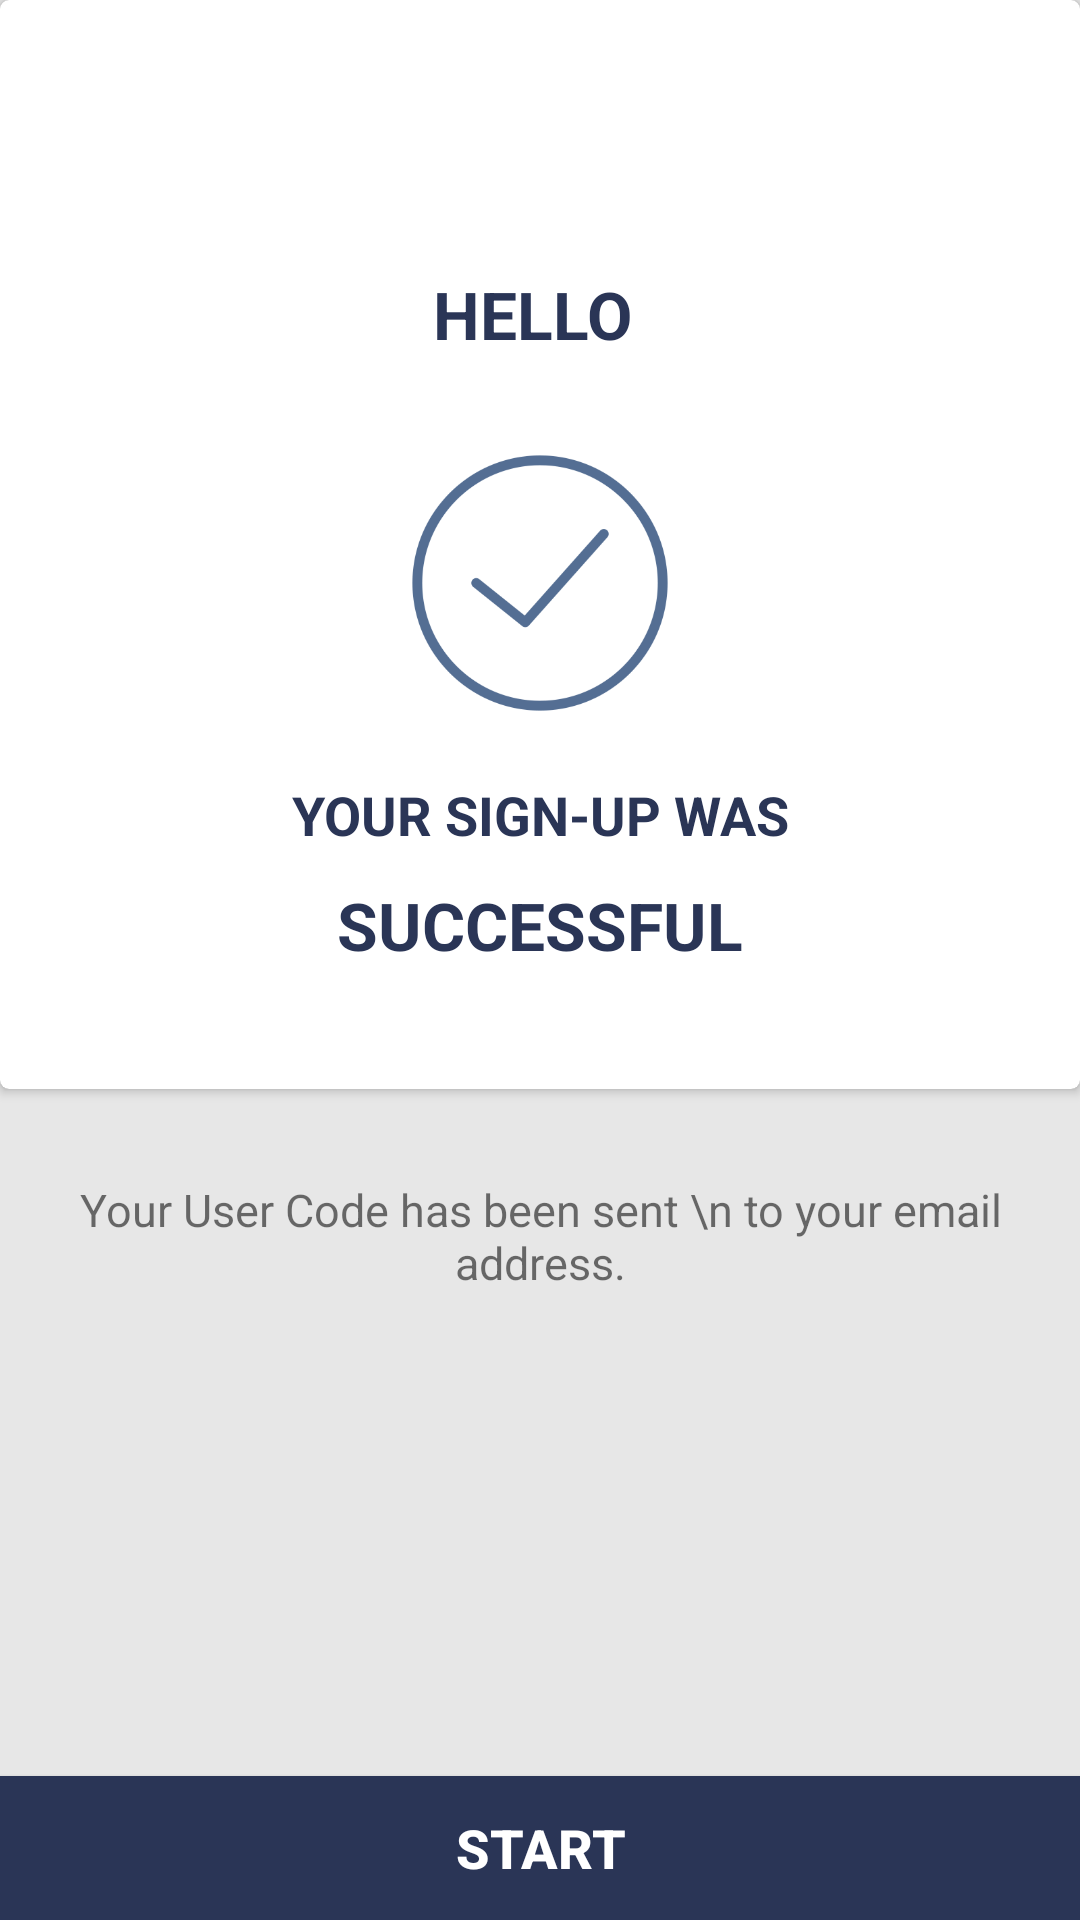

Icons on this 1080px x 1920px Android screen, each with its box as (x1, y1, x2, y2):
successful: (412, 455, 668, 711)
